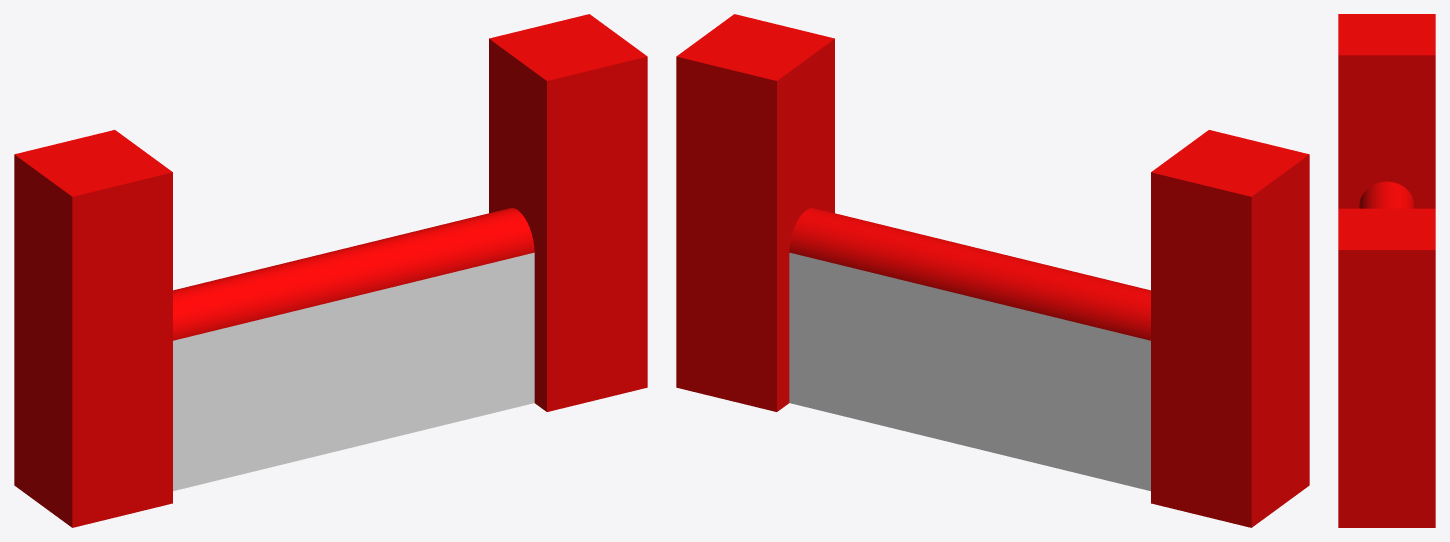
File: wall.fbx
3 views of the same model, side by side, from view 1: azimuth 30°, elevation 25°; view 2: azimuth 150°, elevation 25°; view 3: azimuth 270°, elevation 25° (orthographic). The views are drawn at different scales.
Visible parts, largest first — view 1: Part 1; view 2: Part 1; view 3: Part 1.
Part boxes in pixels (x1,y1,x2,y2): Part 1: (14,14,647,527); Part 1: (676,14,1309,527); Part 1: (1338,14,1435,527).
Size of the model in its own units: 200 by 110 by 35.
